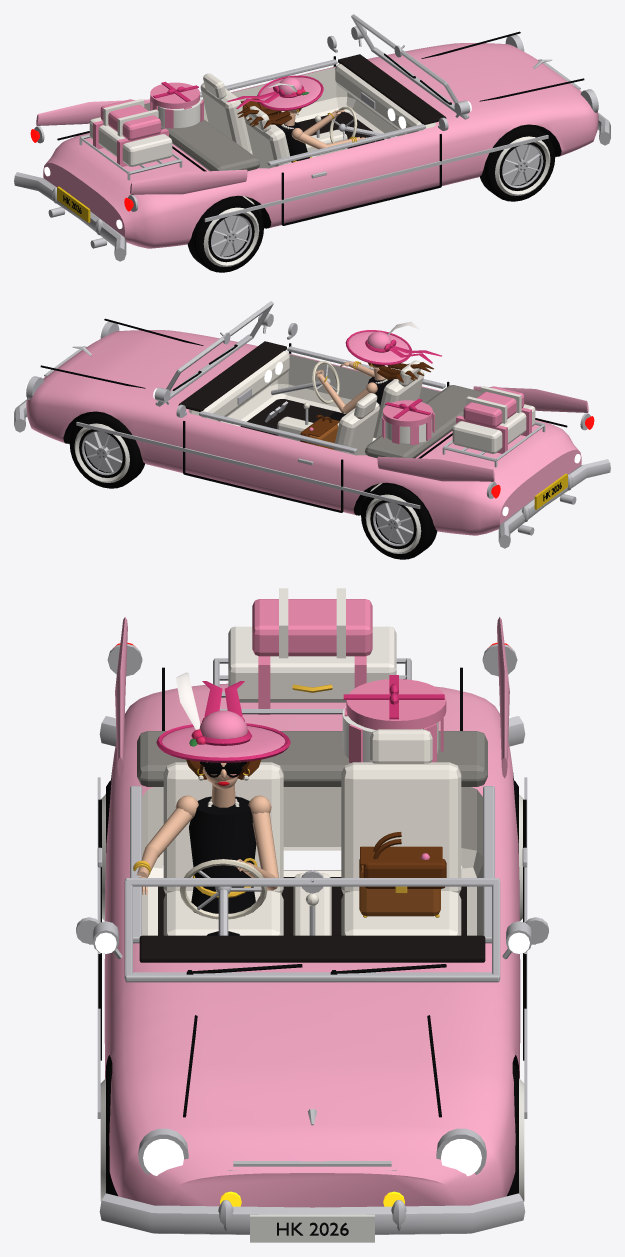
The model's file is pink.glb.
The picture shows the model from 3 angles, top to bottom: view 1: azimuth 30°, elevation 25°; view 2: azimuth 150°, elevation 25°; view 3: azimuth 270°, elevation 25°; orthographic projection. The views are drawn at different scales.
Parts seen in each view (by area): view 1: body; view 2: body; view 3: body.
Boxes of the visible parts, box(x1,y1,x2,y2) form: body: box(14, 14, 610, 272); body: box(14, 301, 610, 559); body: box(76, 588, 548, 1242).
Size of the model in its own units: 4.93 by 1.47 by 1.97.
